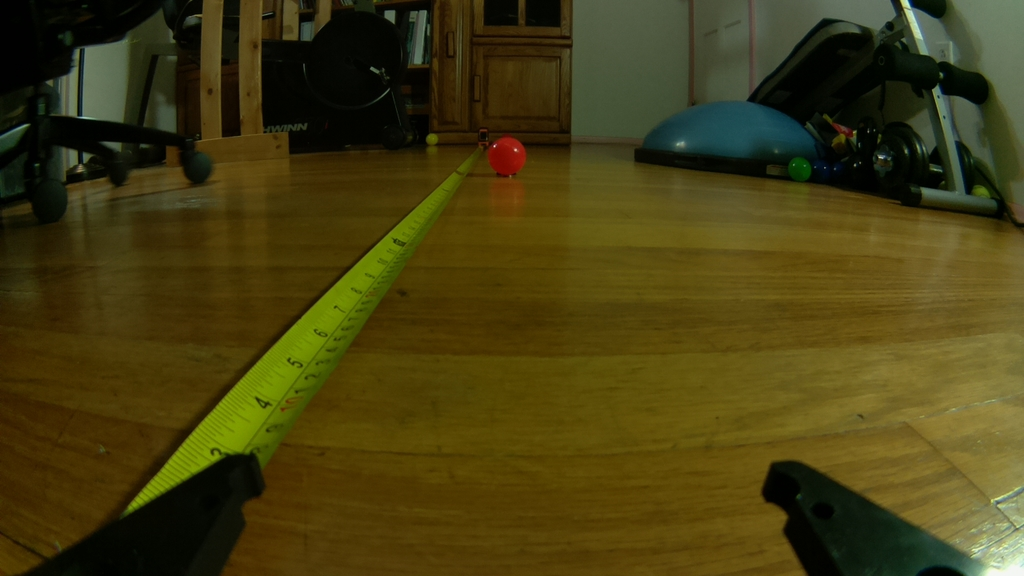ball: (484, 136, 528, 175)
